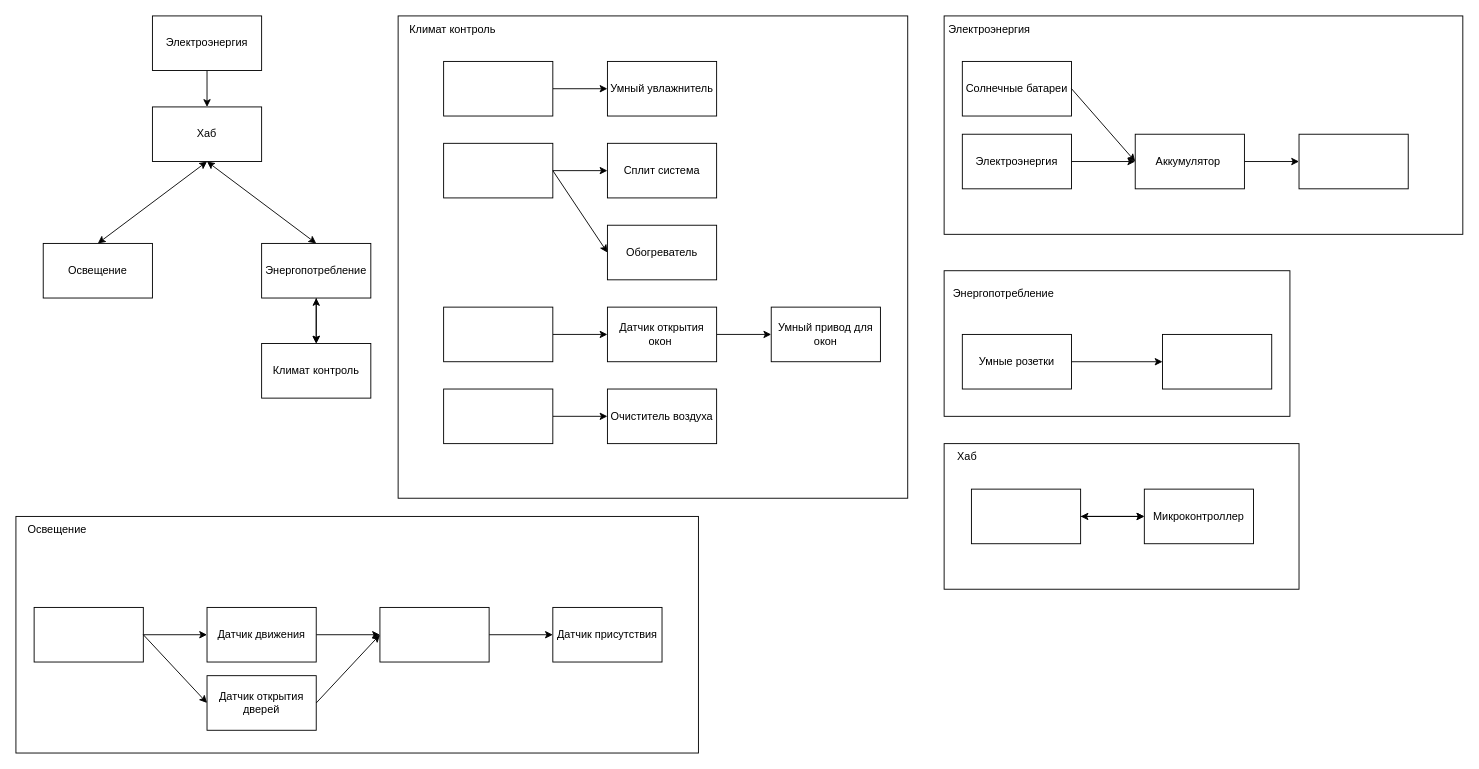
This 1479x769 diagram has some shape labels left out. Here are the shapes that lost their labels. From the top down, the centre of each, then its label:
At (498,88): "Датчик влажности".
At (498,170): "Датчик температуры".
At (1353,161): "Питание умного дома".
At (498,334): "Датчик CO 2".
At (1217,361): "Мониторинг энергопотребления".
At (498,416): "Датчик PM".
At (1026,516): "Модуль связи (ZigBee/Wifi)".
At (88,634): "Умный выключатель".
At (434,634): "Умная лампочка".
